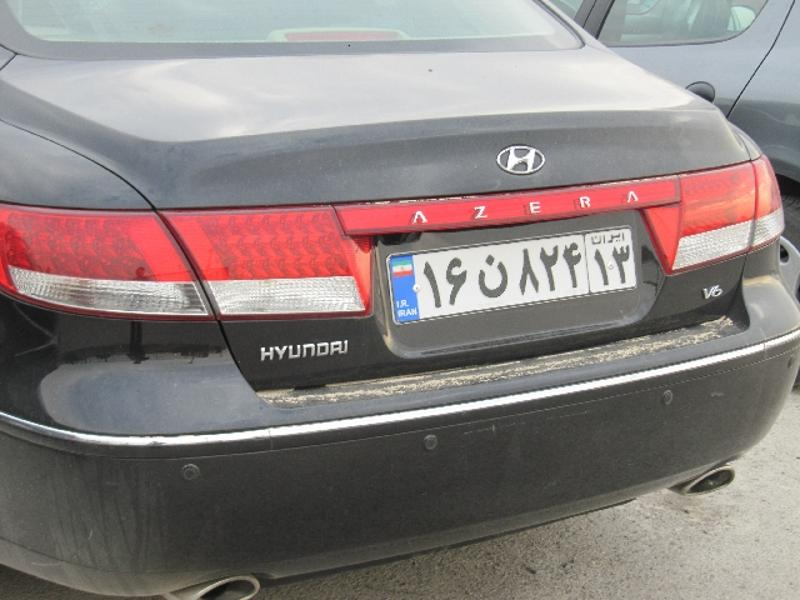Plate: (385, 223, 660, 324)
